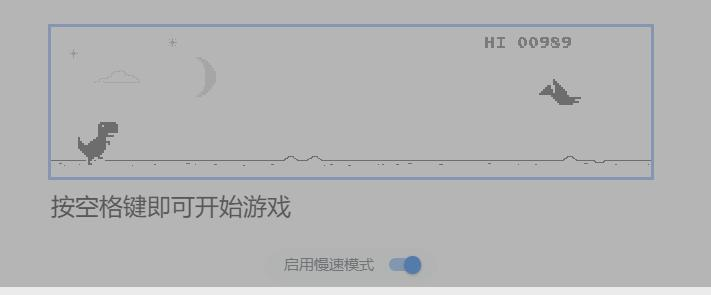bird: (538, 78, 583, 108)
dino: (76, 120, 120, 165)
